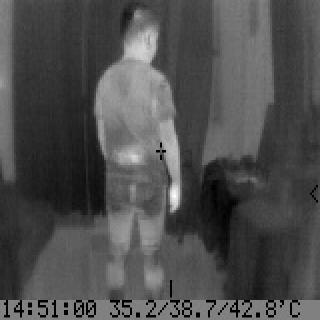Gun: (112, 145, 148, 207)
